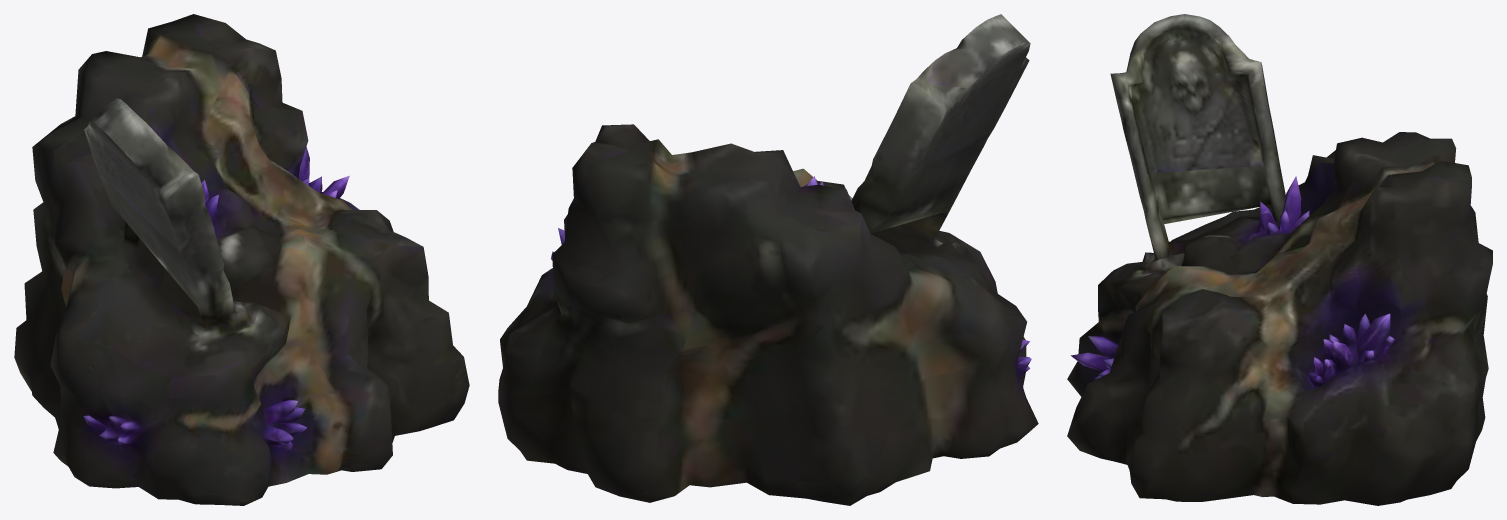
File: prop_node_ore_seam_bronze.glb
The picture shows the model from 3 angles, left to right: view 1: azimuth 30°, elevation 25°; view 2: azimuth 150°, elevation 25°; view 3: azimuth 270°, elevation 25°; orthographic projection. The views are drawn at different scales.
Visible parts, largest first — view 1: tripo_node_0bf5bb75-011f-4941-bb16-5c0978e515fd; view 2: tripo_node_0bf5bb75-011f-4941-bb16-5c0978e515fd; view 3: tripo_node_0bf5bb75-011f-4941-bb16-5c0978e515fd.
Boxes of the visible parts, box(x1,y1,x2,y2) form: tripo_node_0bf5bb75-011f-4941-bb16-5c0978e515fd: box(14, 14, 469, 505); tripo_node_0bf5bb75-011f-4941-bb16-5c0978e515fd: box(498, 14, 1038, 505); tripo_node_0bf5bb75-011f-4941-bb16-5c0978e515fd: box(1067, 14, 1492, 505).
Bounding box in the file's own units: 0.9786 × 0.8964 × 0.998.
1 material, 1 textured.
